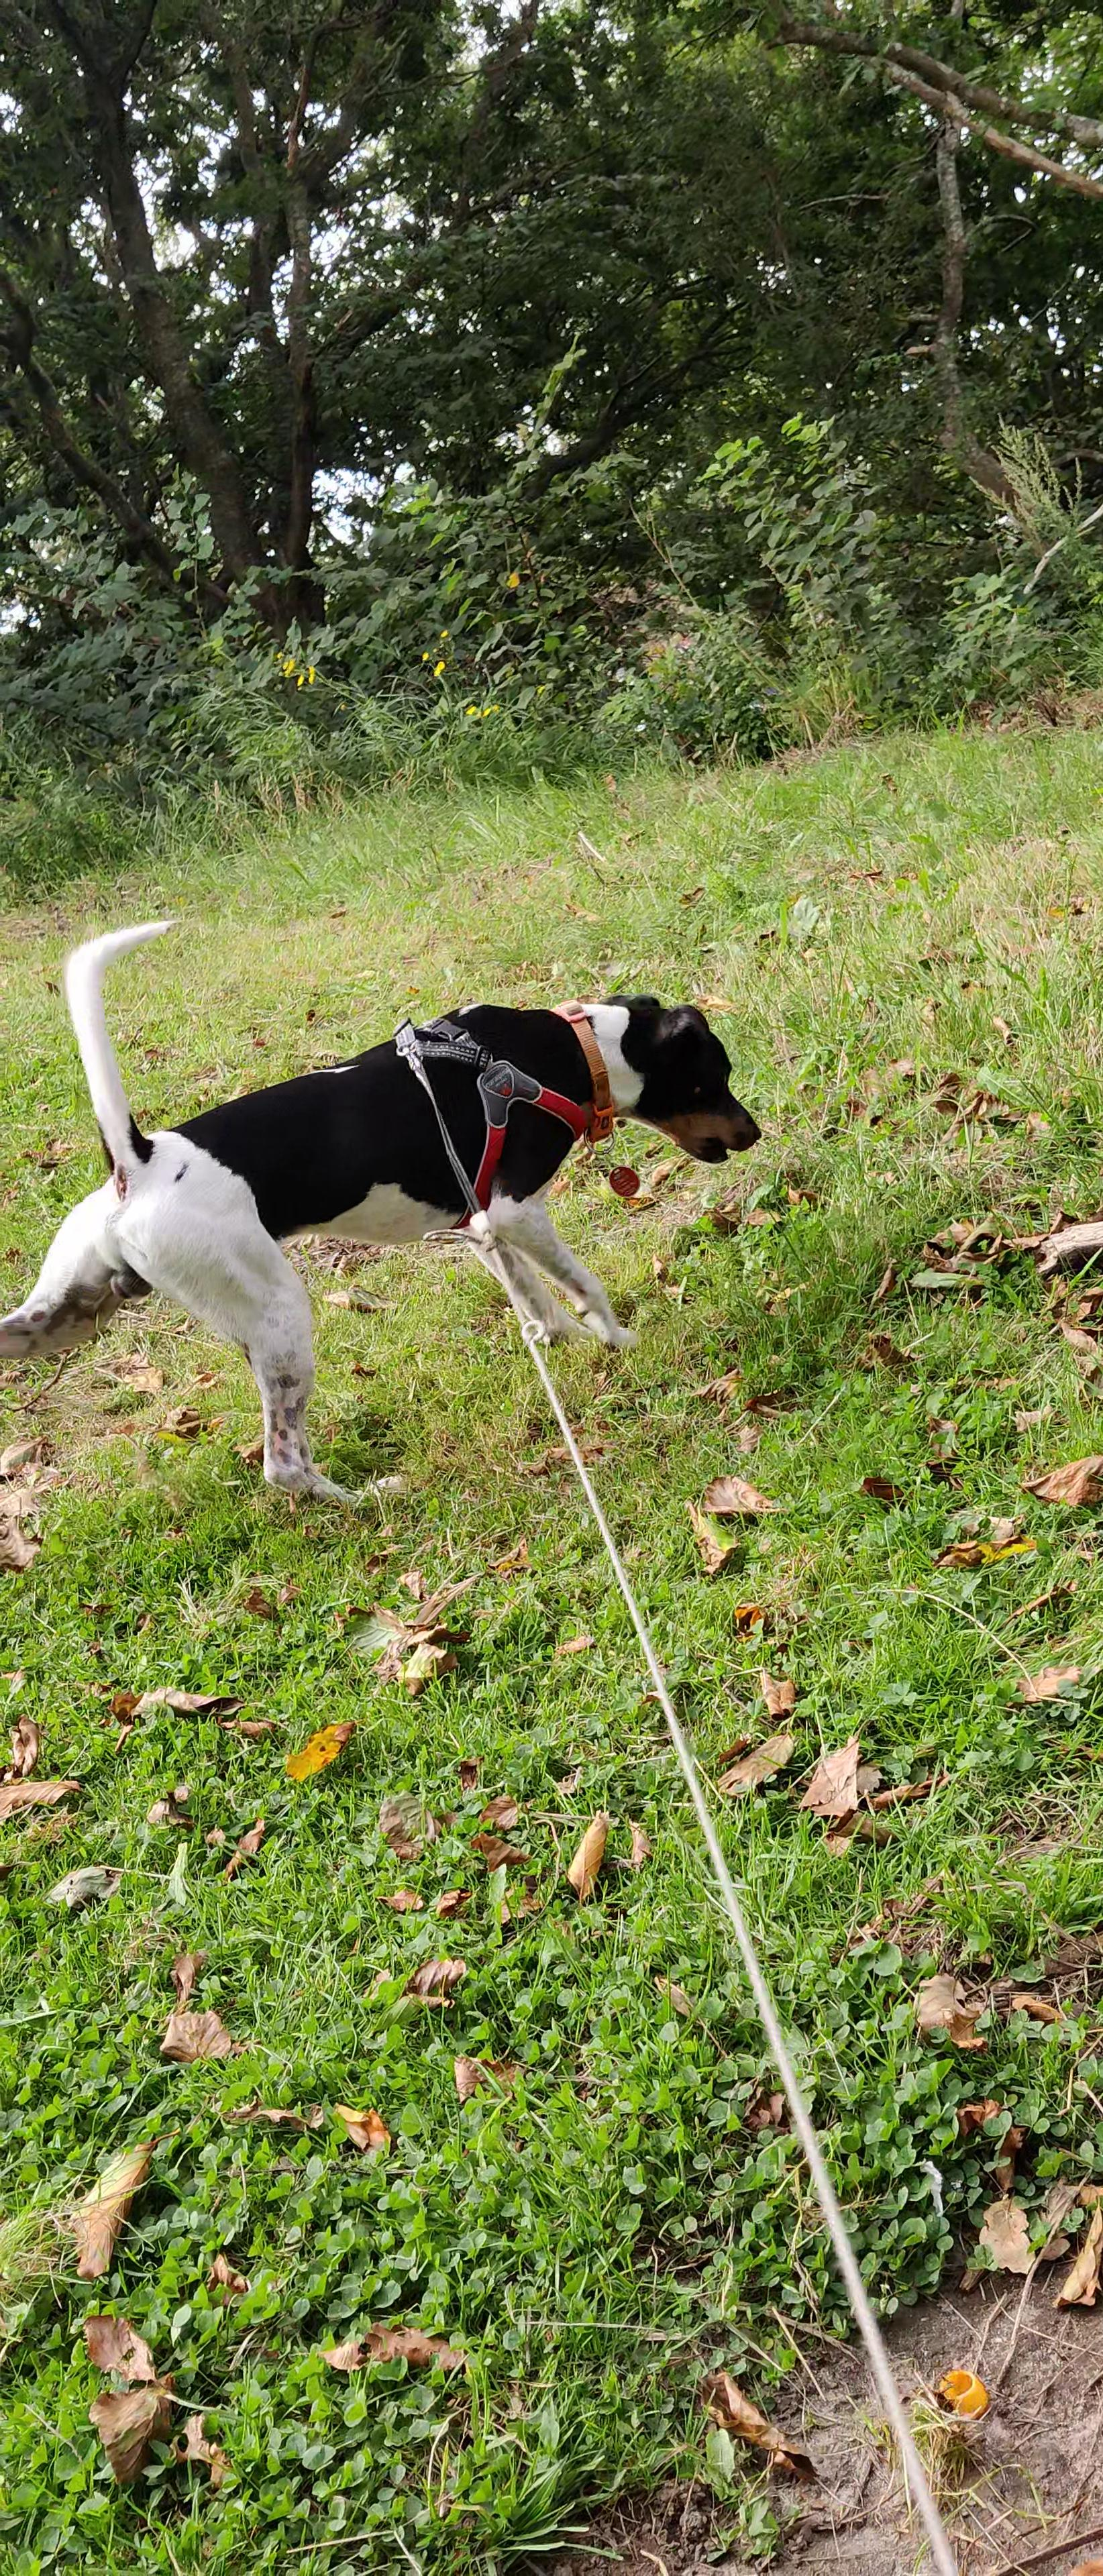Dog: (0, 904, 771, 1516)
